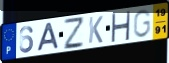6: (19, 25, 35, 54)
A: (36, 21, 60, 53)
G: (132, 8, 153, 39)
H: (110, 11, 132, 43)
K: (88, 15, 104, 45)
Z: (63, 17, 85, 51)
